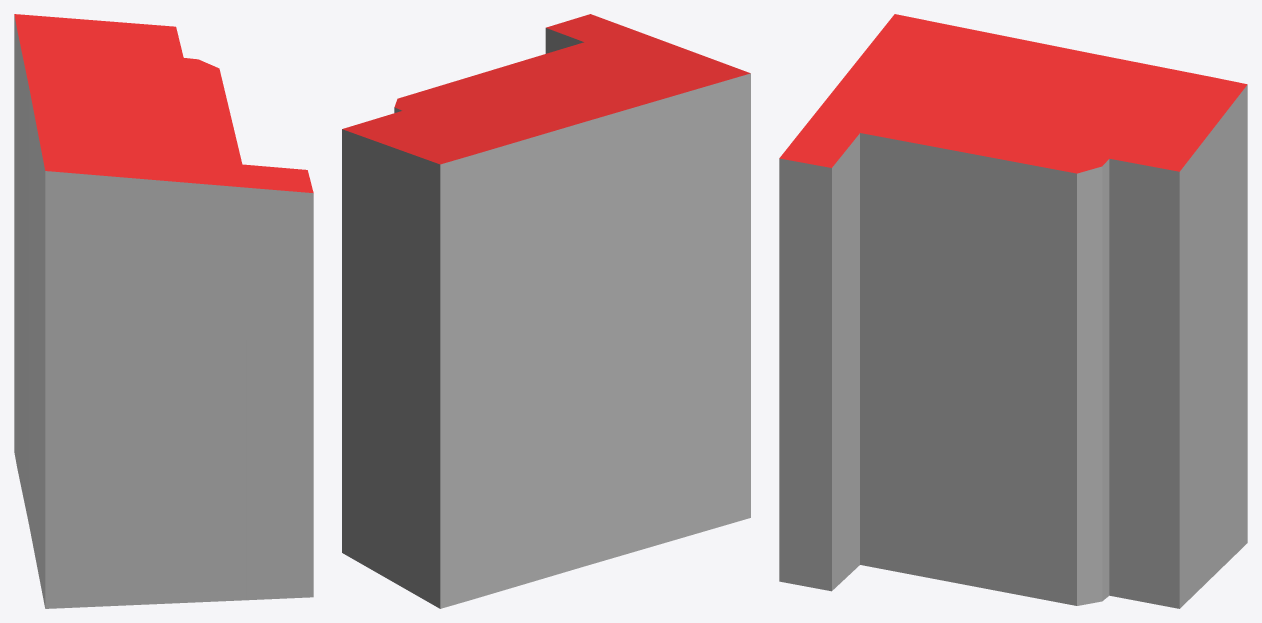
File: DEBY_LOD2_4907197.dae
3 views of the same model, side by side, from view 1: azimuth 30°, elevation 25°; view 2: azimuth 150°, elevation 25°; view 3: azimuth 270°, elevation 25° (orthographic). The views are drawn at different scales.
Size of the model in its own units: 11.29 by 16.39 by 17.7.
